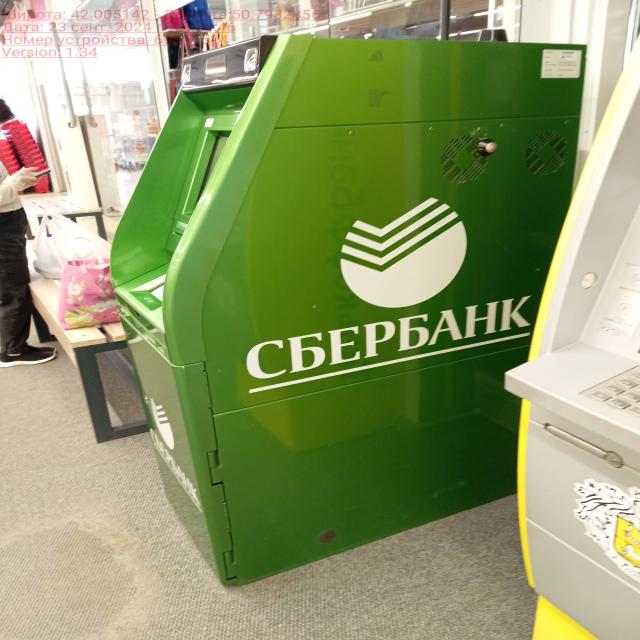bank: (98, 34, 613, 584)
